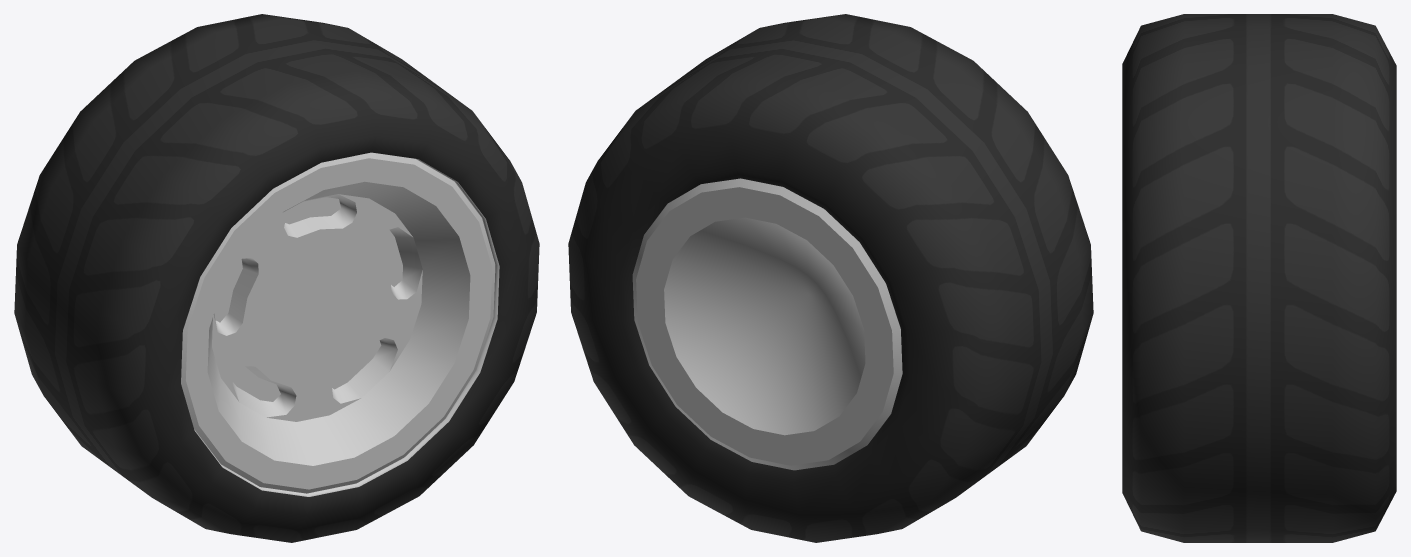
File: Wheel_08.fbx
3 views of the same model, side by side, from view 1: azimuth 30°, elevation 25°; view 2: azimuth 150°, elevation 25°; view 3: azimuth 270°, elevation 25° (orthographic). The views are drawn at different scales.
Visible parts, largest first — view 1: Wheel_08; view 2: Wheel_08; view 3: Wheel_08.
Part boxes in pixels (box(x1,y1,x2,y2)): Wheel_08: box(14, 14, 539, 542); Wheel_08: box(568, 14, 1093, 542); Wheel_08: box(1122, 14, 1396, 542).
Size of the model in its own units: 94.77 by 49.45 by 94.77.
